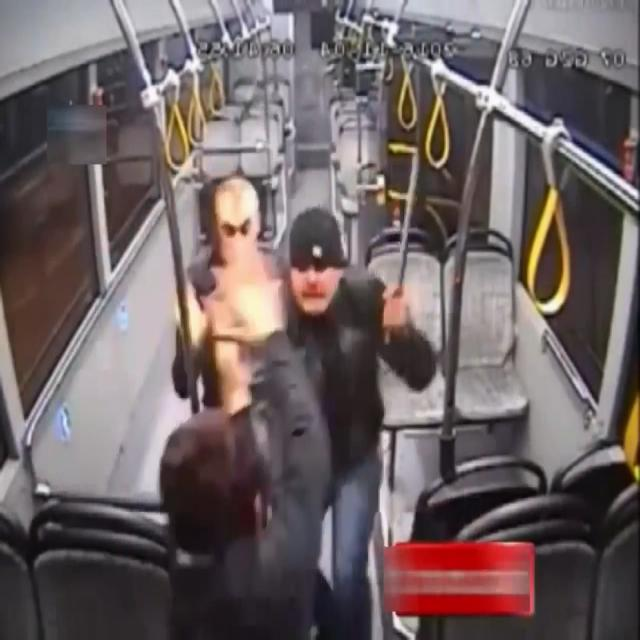fight: (131, 74, 466, 614)
